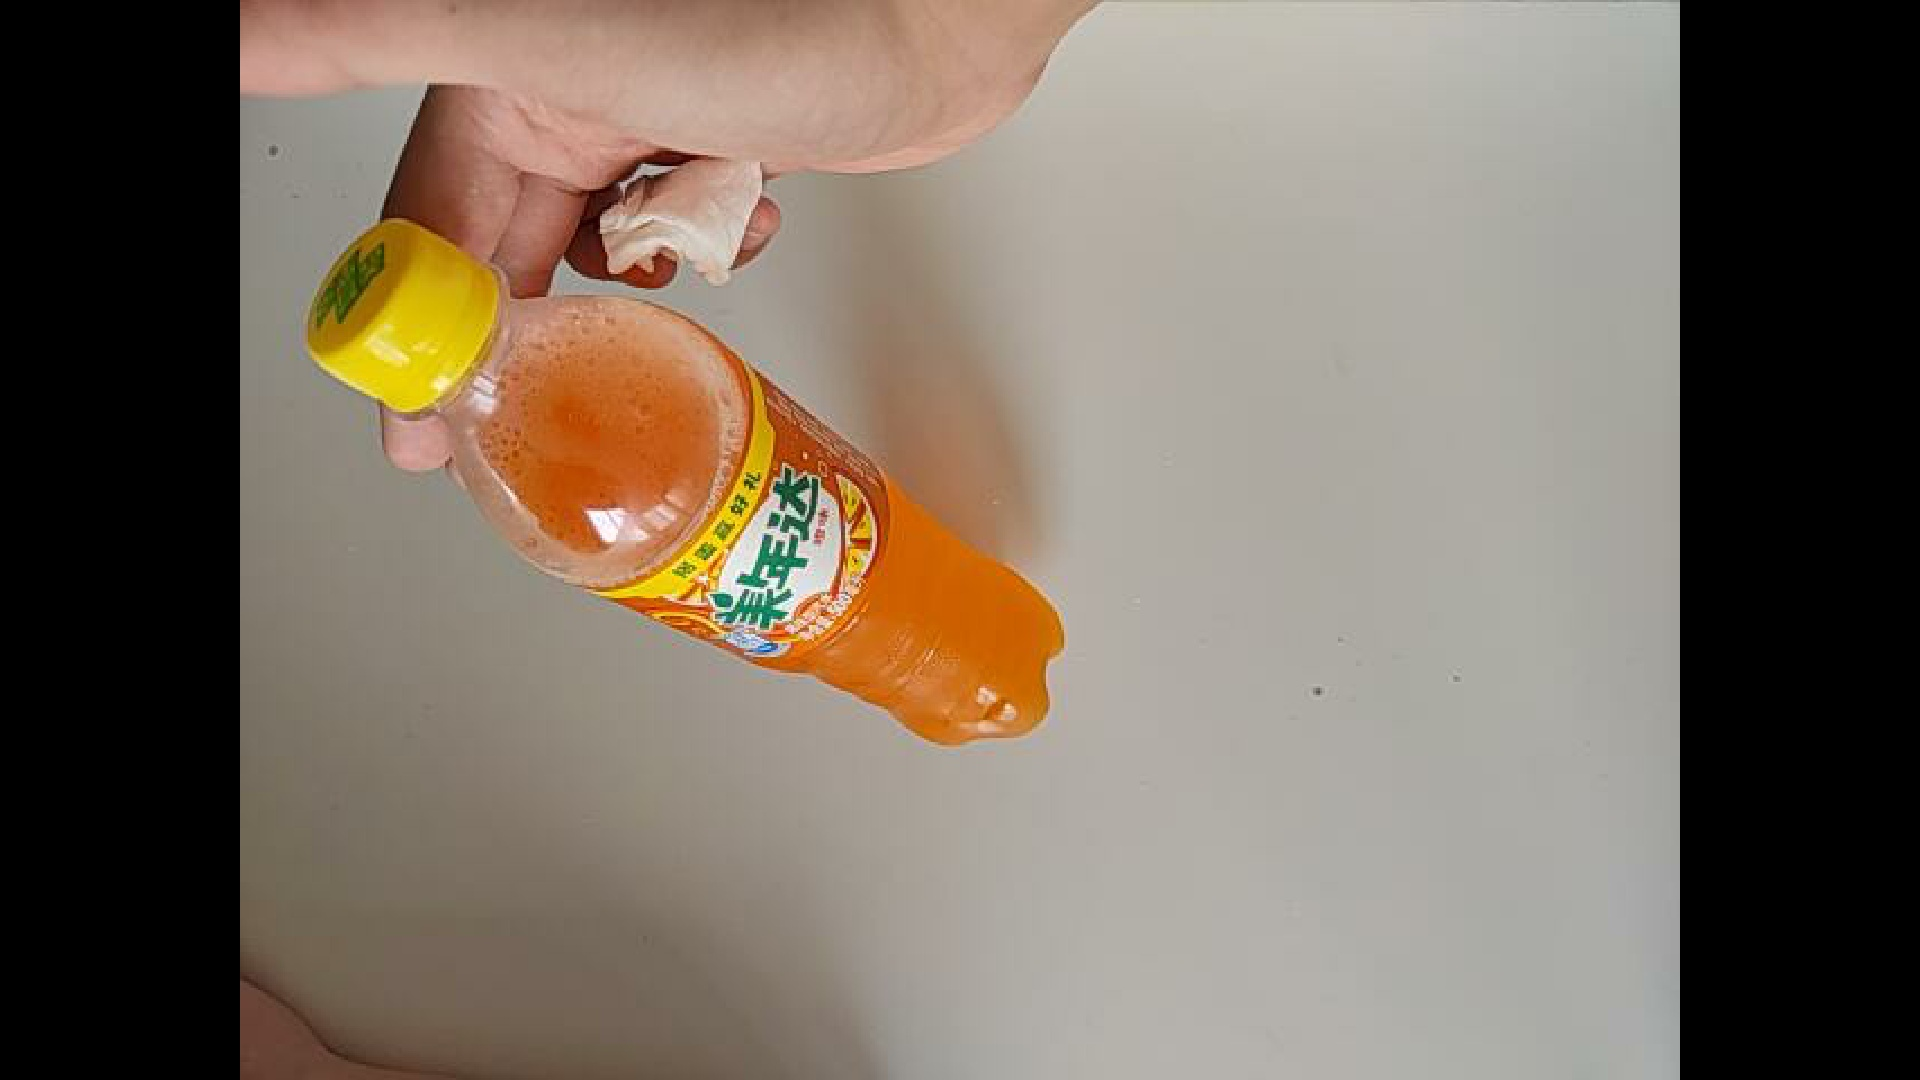fenta: (125, 133, 1117, 647)
